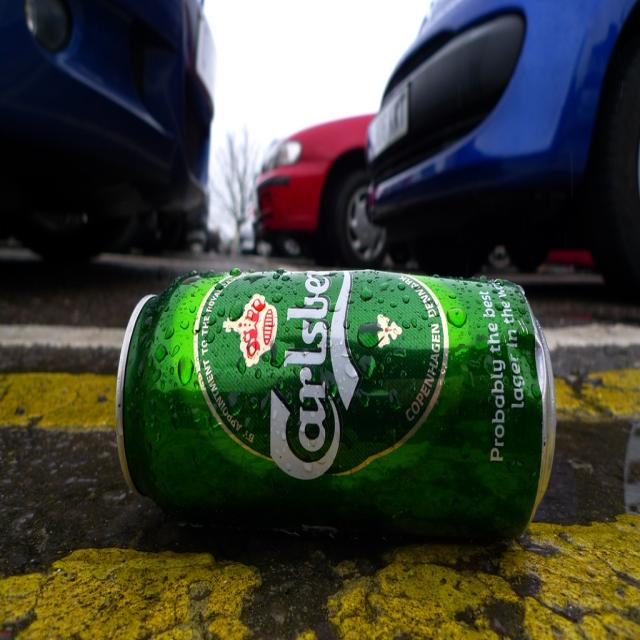carlsberg: (190, 267, 452, 486)
